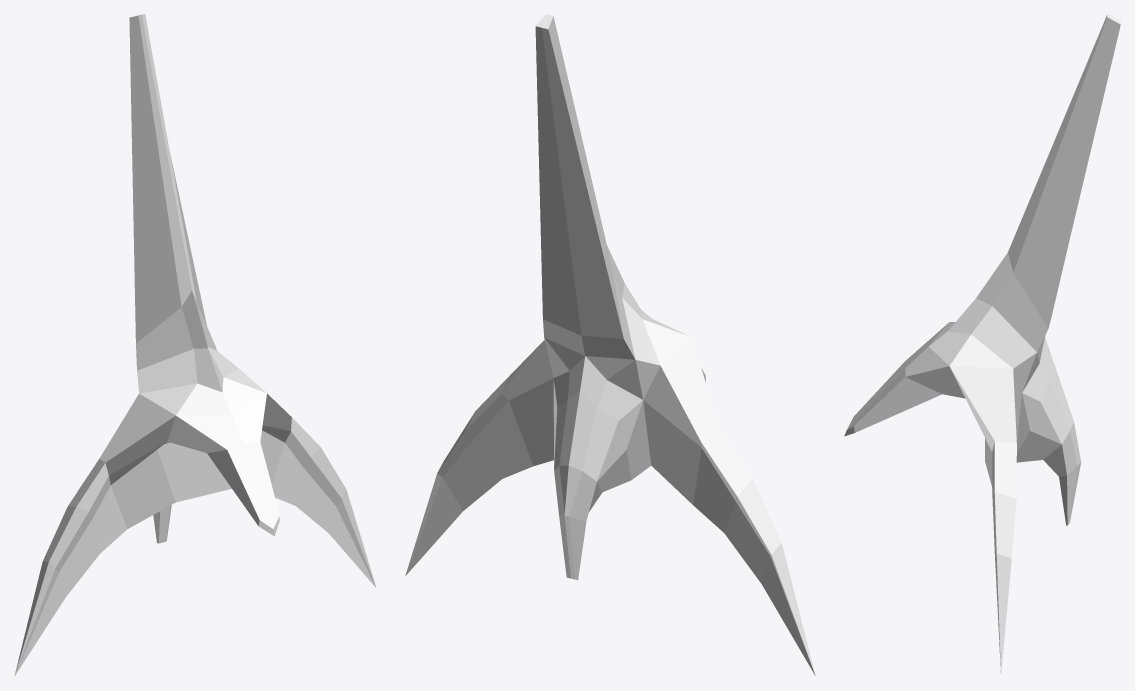
The model's file is head_36.fbx.
3 renders of one model, left to right at view 1: azimuth 30°, elevation 25°; view 2: azimuth 150°, elevation 25°; view 3: azimuth 270°, elevation 25°, orthographic. The views are drawn at different scales.
Parts seen in each view (by area): view 1: Cube.165; view 2: Cube.165; view 3: Cube.165.
Part boxes in pixels (x1,y1,x2,y2): Cube.165: (14,14,376,675); Cube.165: (405,14,815,675); Cube.165: (844,14,1120,675).
Size of the model in its own units: 113 by 173 by 75.61.
